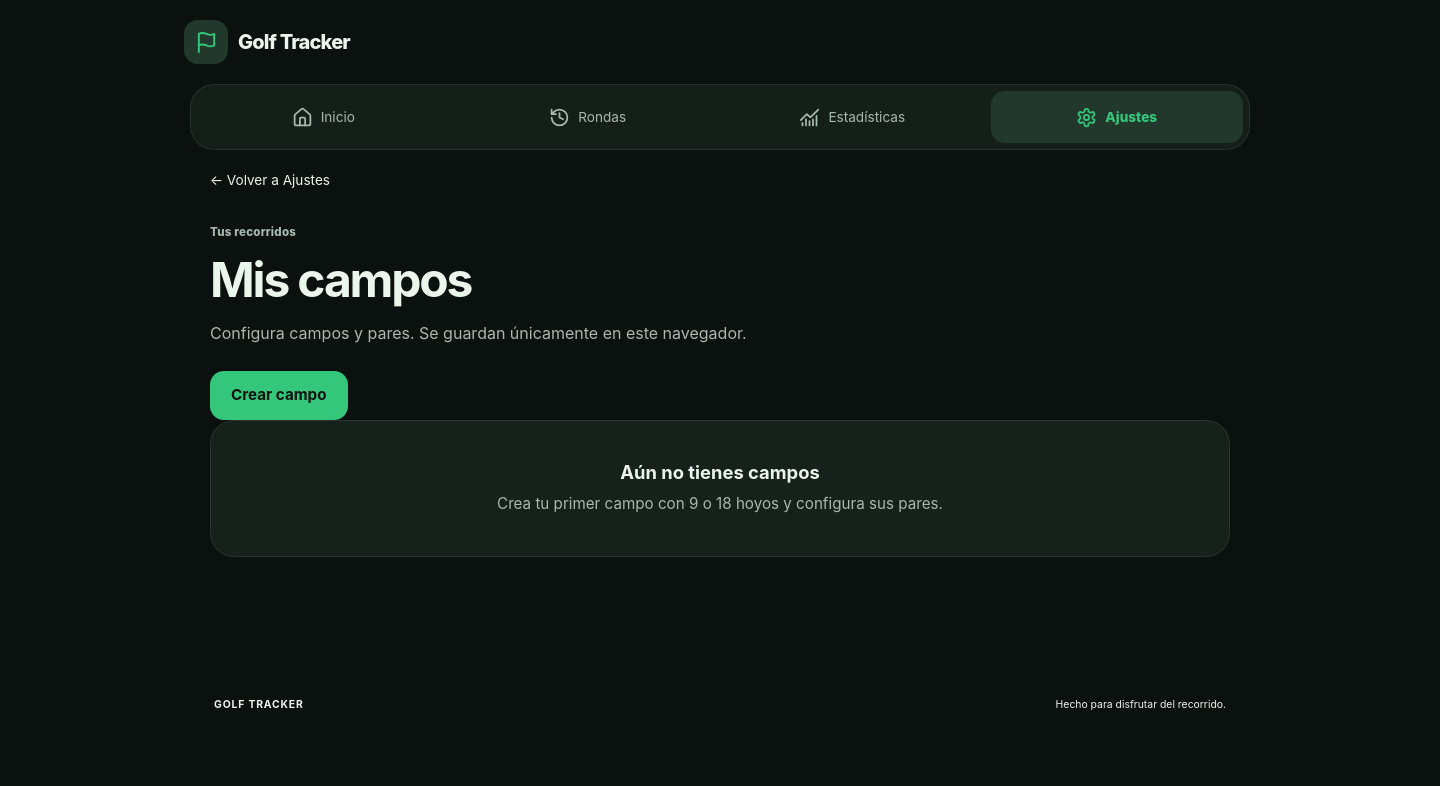
Gestión real y confirmaciones › mantiene el formulario y muestra error si falla el guardado
Click the button "Crear campo": (279, 395) [210, 371, 348, 420]
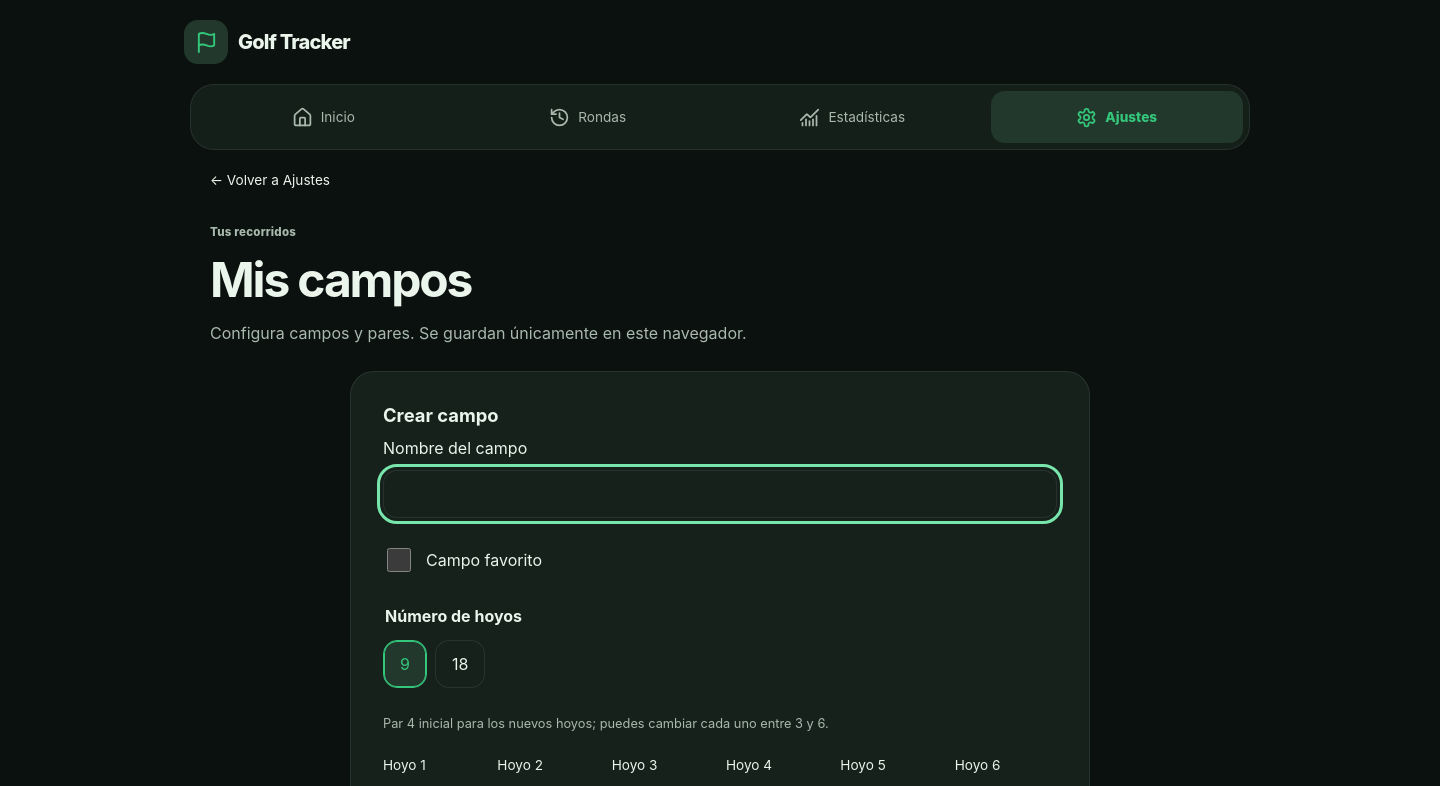
In the field labelled "Nombre del campo": (720, 494) [383, 470, 1057, 518], type "Pendiente"
(page scrolled)
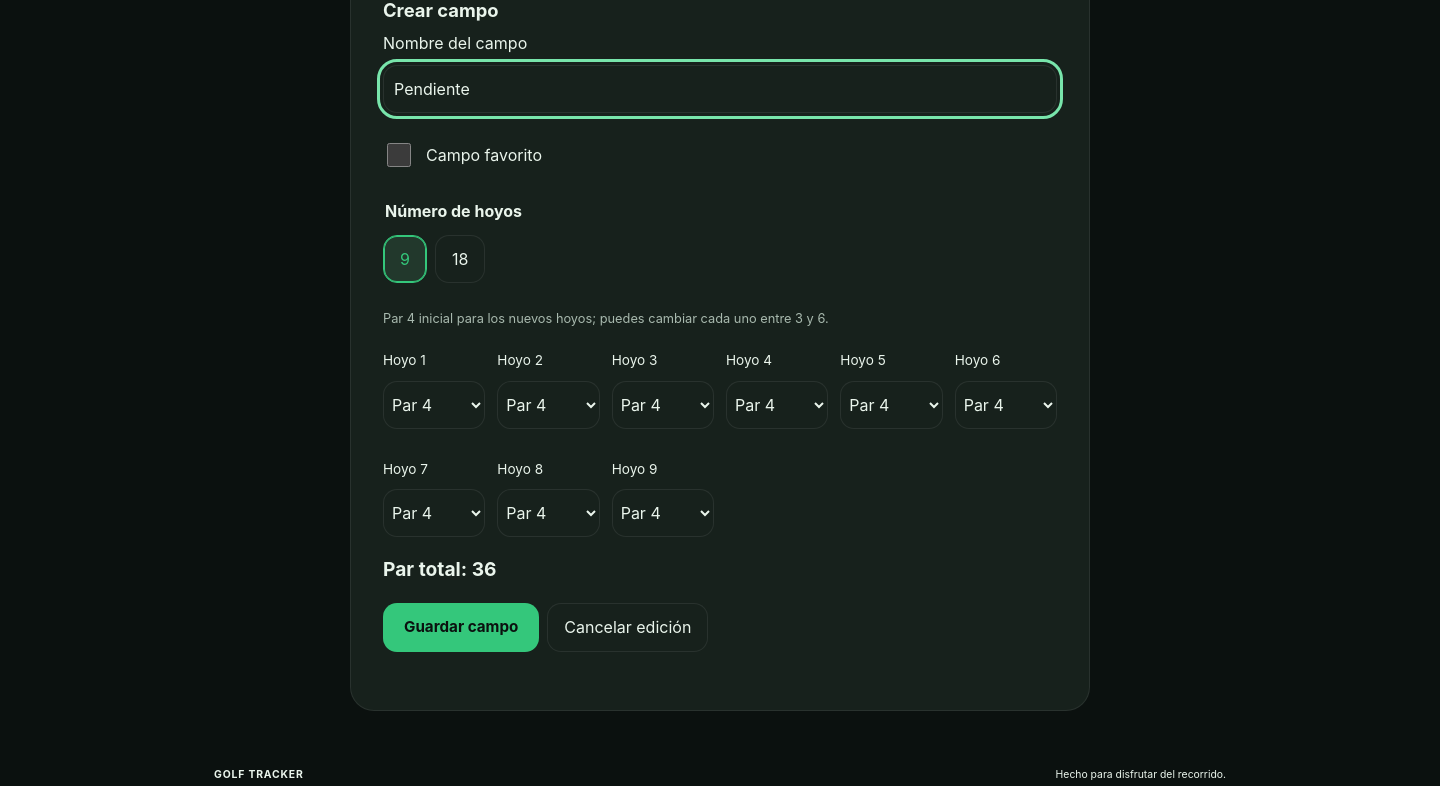
Click the button "Guardar campo": (461, 627) [383, 603, 539, 652]
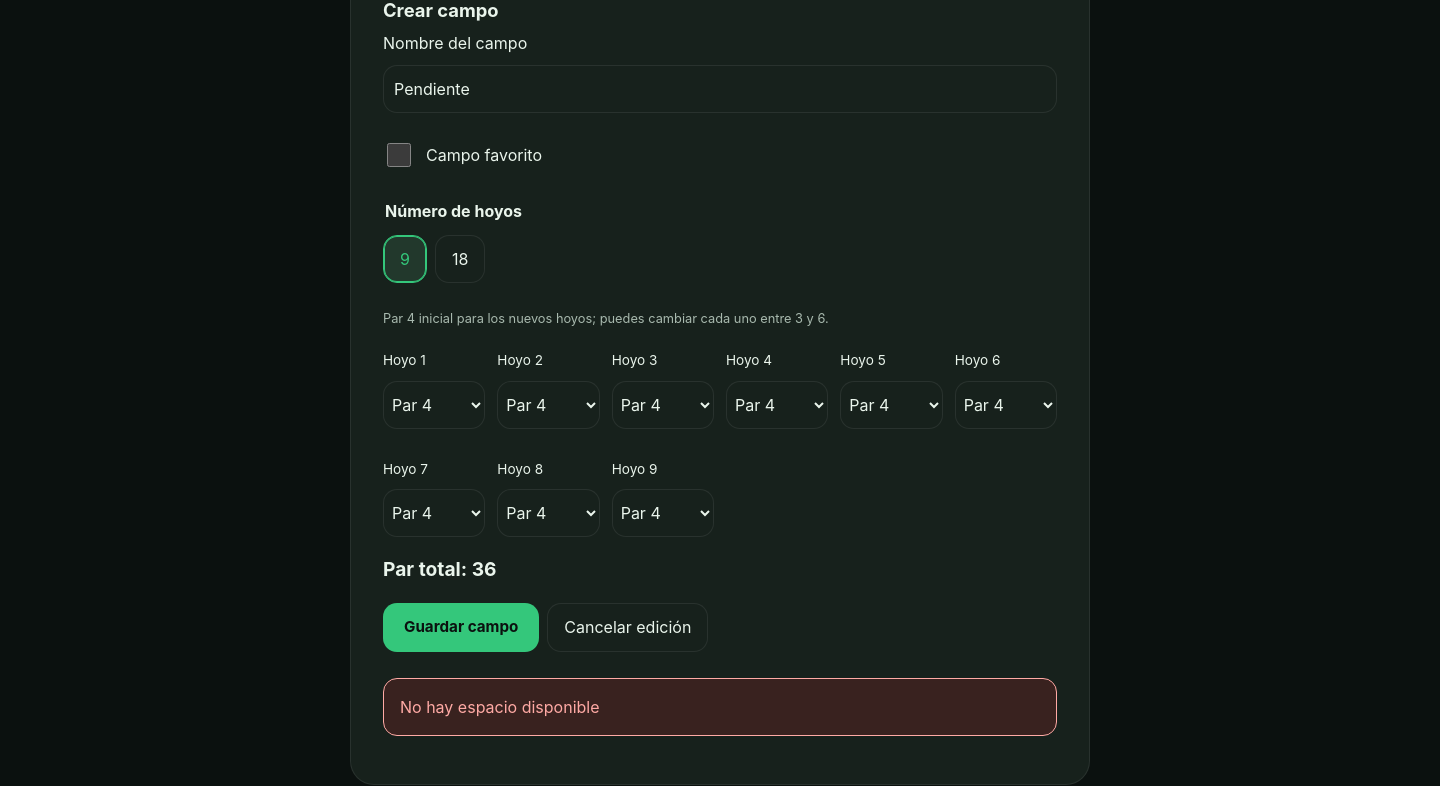
Expected: the message reads "No hay espacio disponible", [400, 697, 600, 717]
Click the button "Guardar campo": (461, 627) [383, 603, 539, 652]
(page scrolled)
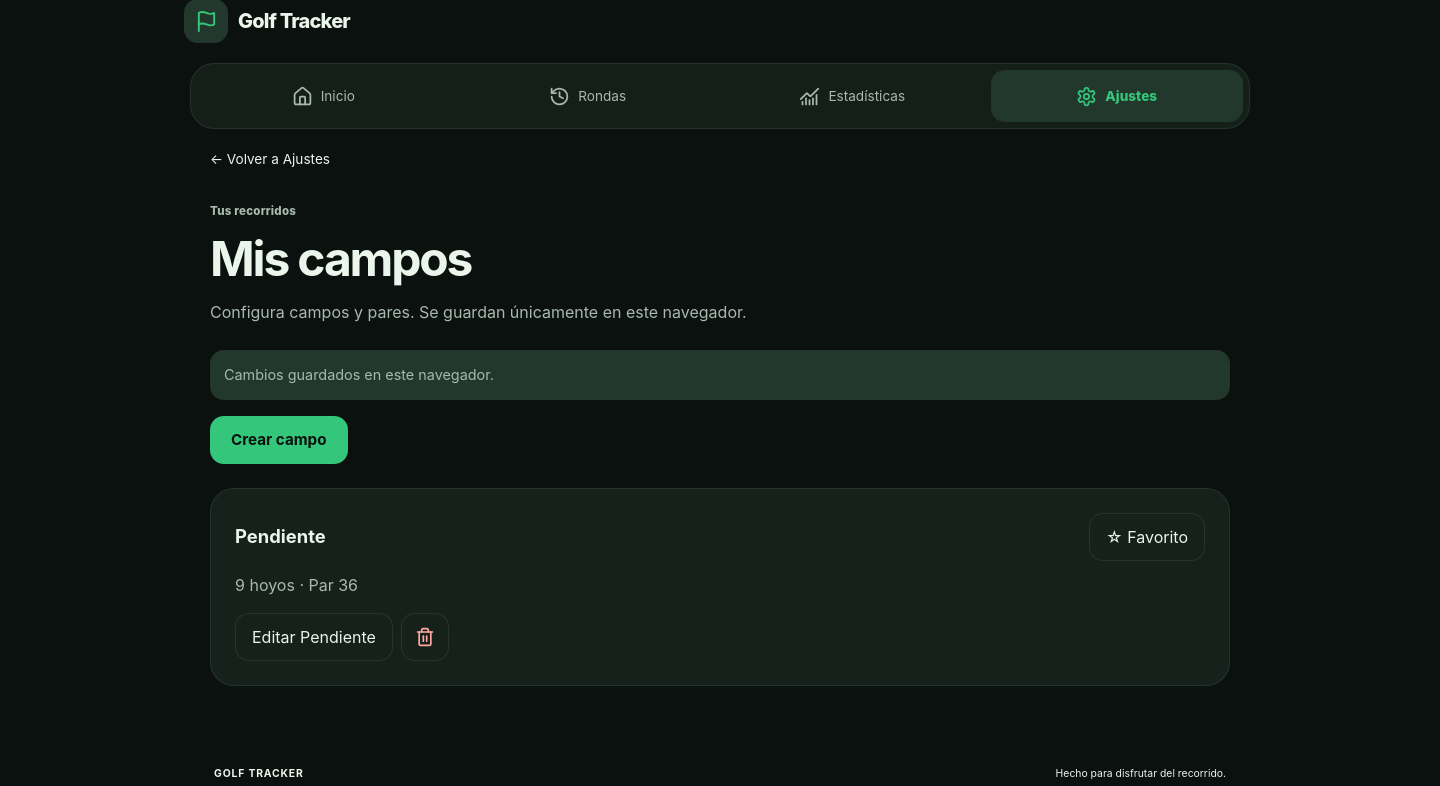
Expected: the heading "Pendiente" is shown, [235, 526, 326, 549]
